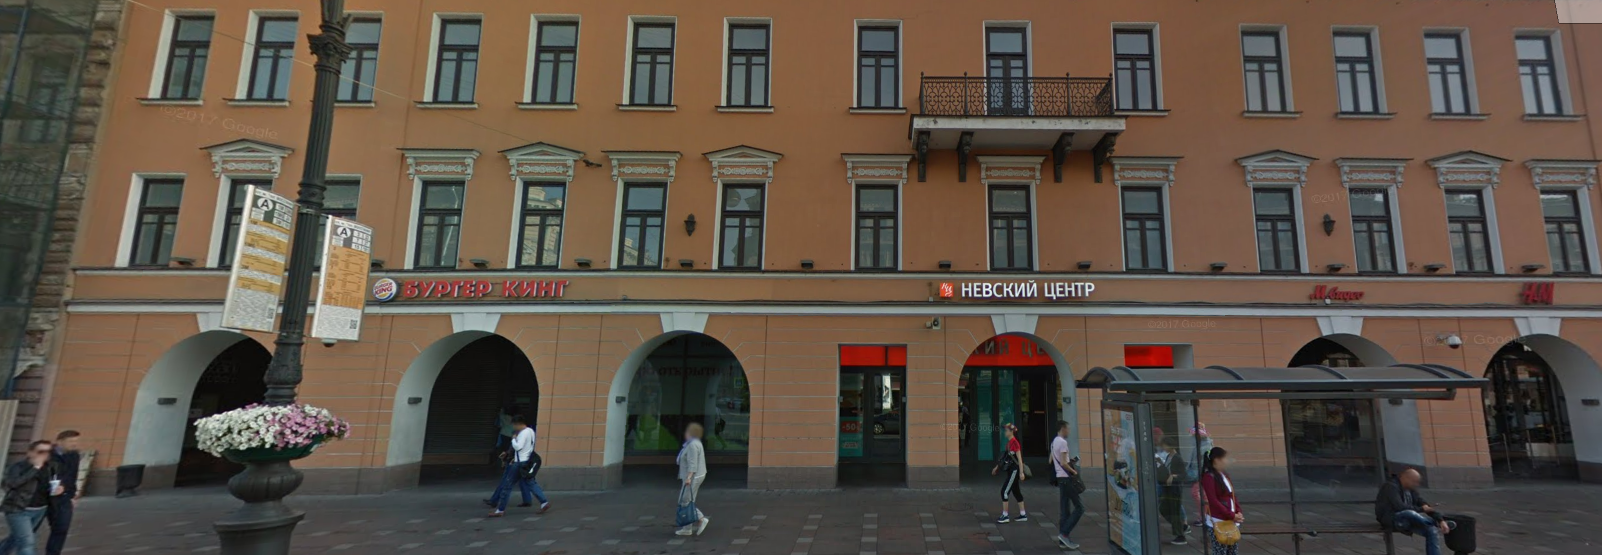arch: (121, 326, 278, 494), (591, 328, 755, 487), (382, 328, 540, 492), (1270, 331, 1434, 489), (946, 328, 1085, 485), (1473, 325, 1602, 474)
signboard: (367, 268, 575, 305), (928, 274, 1097, 304), (1307, 277, 1374, 305), (1515, 275, 1559, 312)
window: (1344, 183, 1404, 280), (1442, 187, 1503, 278), (984, 175, 1041, 272), (425, 13, 484, 106), (524, 15, 578, 110), (1252, 173, 1304, 271), (978, 21, 1032, 115), (1511, 29, 1566, 121), (132, 171, 182, 270), (1108, 19, 1160, 114), (713, 177, 763, 275), (1120, 179, 1170, 274), (1423, 27, 1476, 115), (847, 177, 897, 271), (1539, 187, 1593, 274), (616, 173, 662, 275), (515, 174, 565, 267), (626, 17, 676, 108), (415, 176, 463, 269), (1333, 26, 1380, 120), (1241, 24, 1288, 117), (726, 17, 770, 106), (854, 25, 897, 110), (336, 16, 377, 105), (163, 10, 201, 97), (255, 15, 288, 101)
